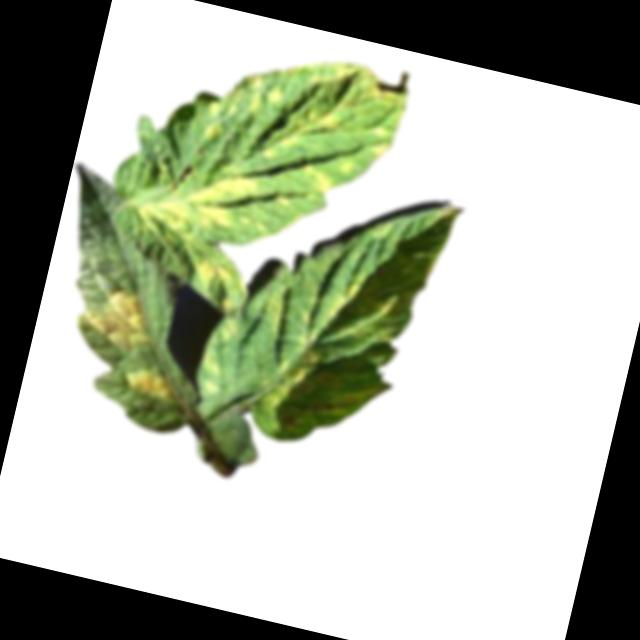Leaf_Mold: (280, 50, 412, 167), (129, 153, 260, 259), (73, 280, 162, 358), (262, 339, 322, 415), (119, 364, 177, 405), (198, 95, 239, 145), (244, 73, 284, 121), (257, 283, 291, 338), (294, 157, 334, 203), (194, 254, 235, 291), (362, 295, 398, 319), (197, 348, 225, 376)
